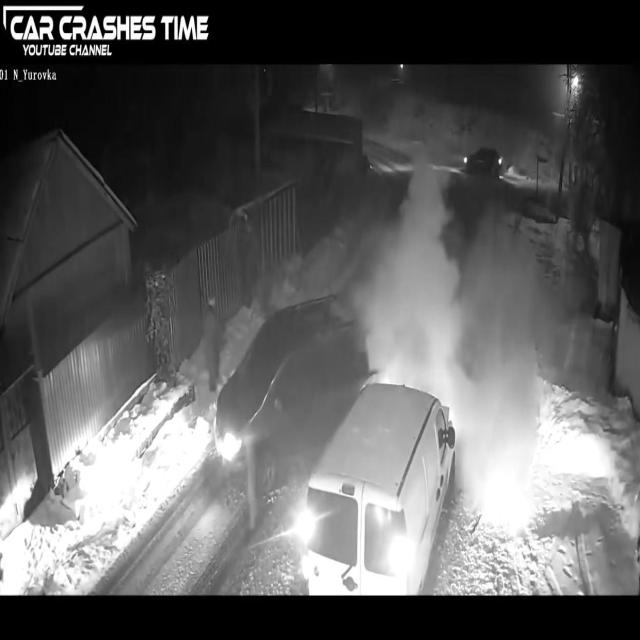accident: (212, 290, 460, 594)
